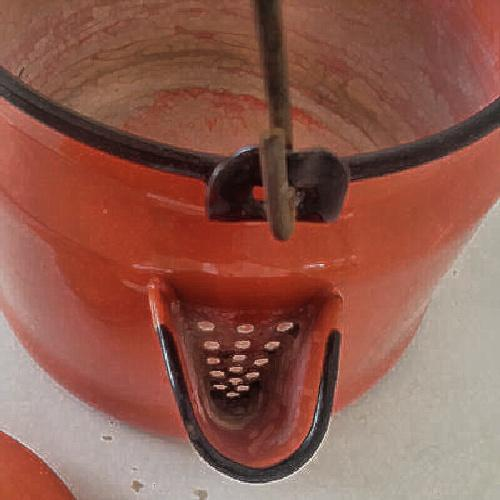kettle: (29, 18, 476, 468)
